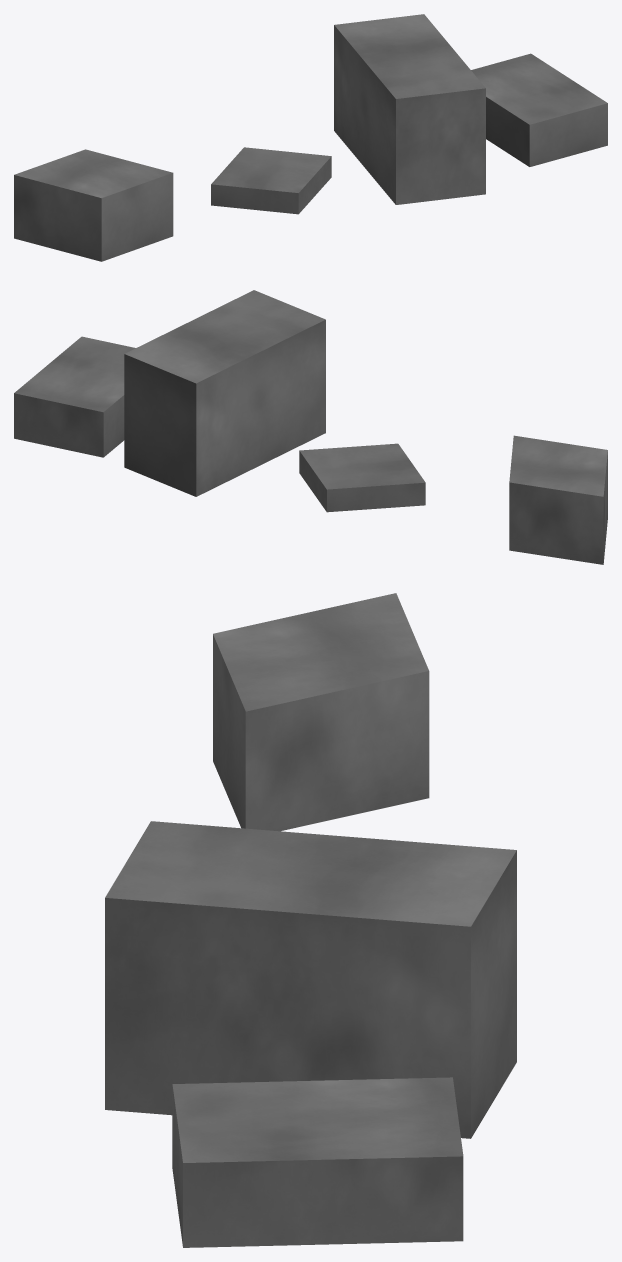
The model's file is Random Decoration.fbx.
3 views of the same model, one above another, from view 1: azimuth 30°, elevation 25°; view 2: azimuth 150°, elevation 25°; view 3: azimuth 270°, elevation 25° (orthographic). The views are drawn at different scales.
Visible parts, largest first — view 1: old blue Mesh (1); view 2: old blue Mesh (1); view 3: old blue Mesh (1).
Boxes of the visible parts, bbox=[...] form: old blue Mesh (1): bbox=[14, 14, 607, 261]; old blue Mesh (1): bbox=[14, 290, 607, 564]; old blue Mesh (1): bbox=[105, 593, 516, 1247].
Size of the model in its own units: 1.33 by 0.25 by 0.4401.
